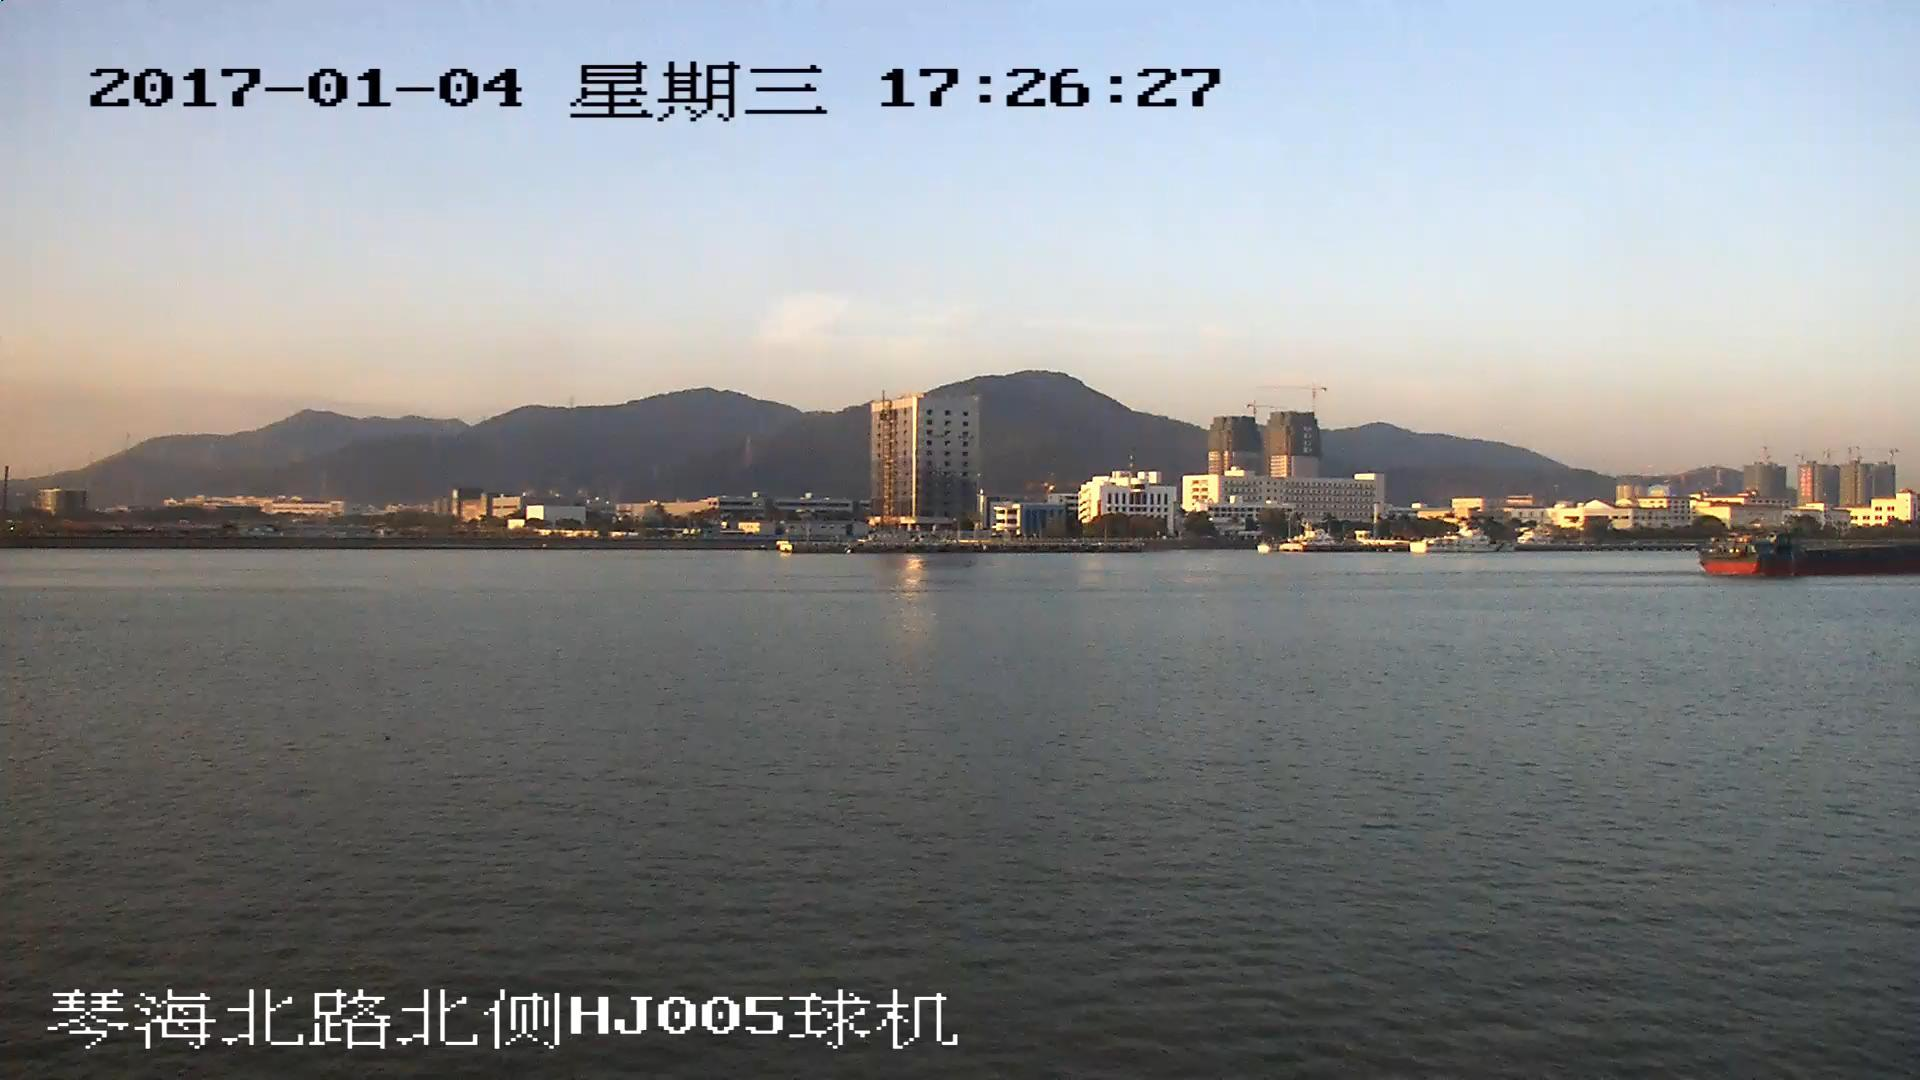Ship: (1700, 529, 1920, 580)
